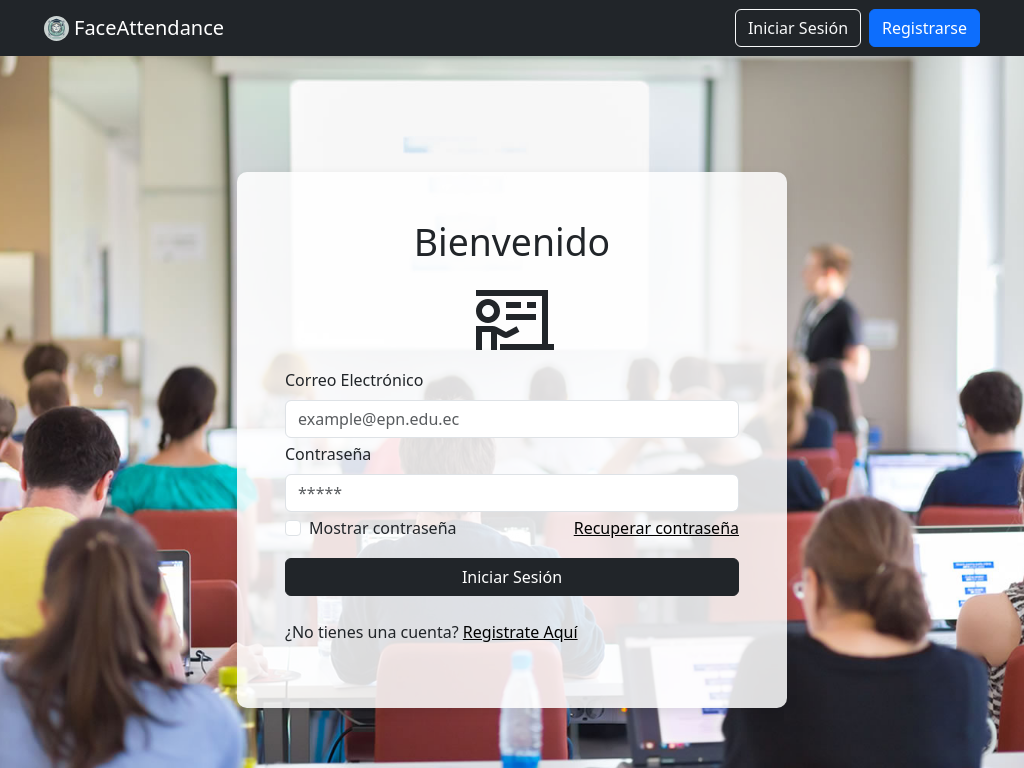
Test case: Login test › Mostrar errores cuando se ingresa datos incorrectos
Click the field labelled "Correo Electrónico". click: [512, 419]
box: [285,400,739,438]
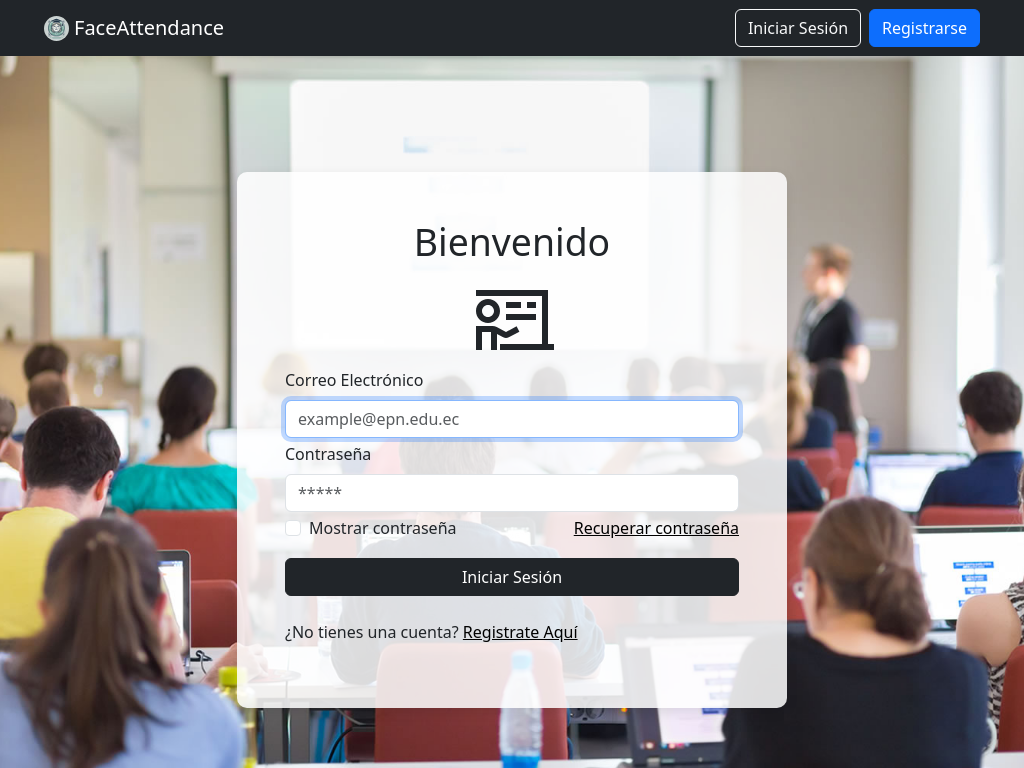
Click the button "Iniciar Sesión" below "Mostrar contraseña". click: [512, 577]
box: [285,558,739,596]
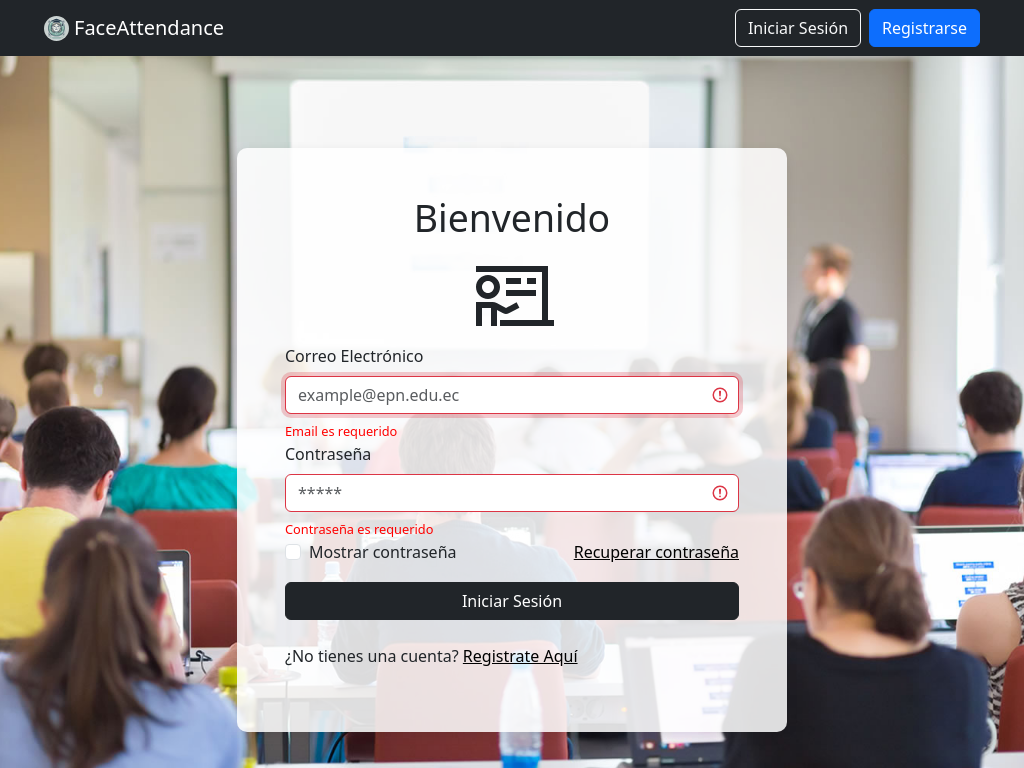
Result: the text "Email es requerido" is shown at [285,422,397,440]
